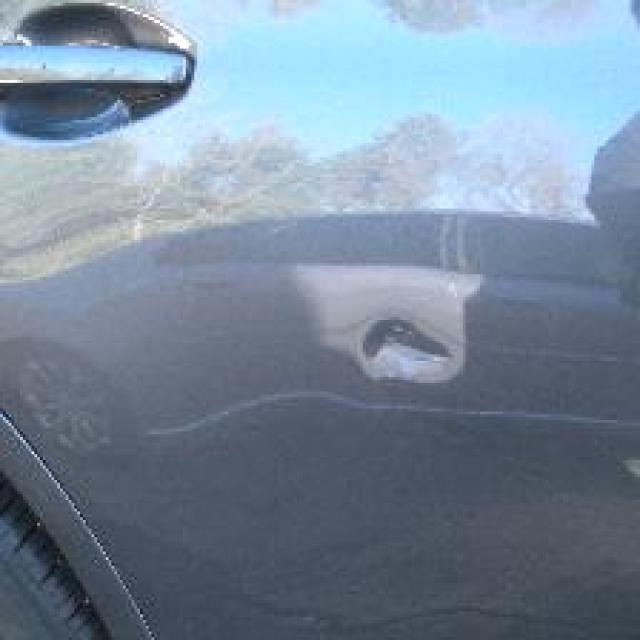minor: (334, 291, 477, 398), (146, 391, 338, 443), (421, 408, 633, 427)
